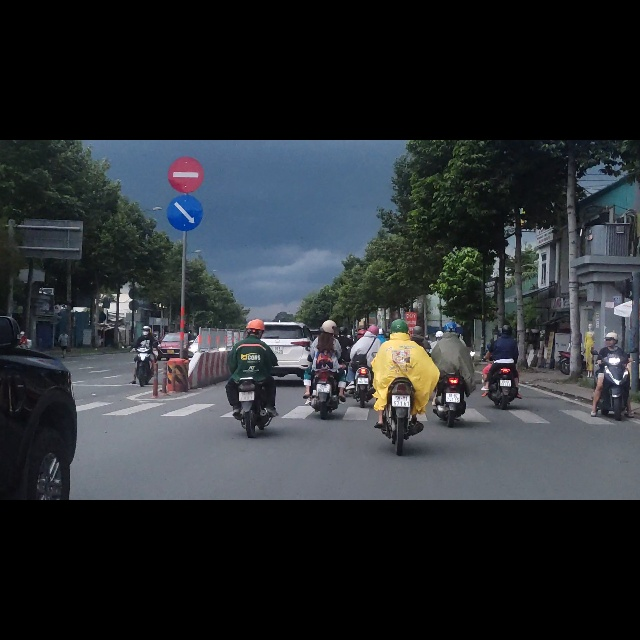bien_hieu_lenh: (167, 26, 205, 95), (167, 96, 204, 162)
